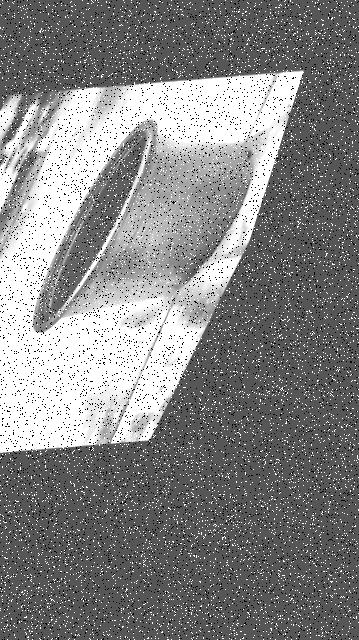pot: (30, 120, 251, 332)
